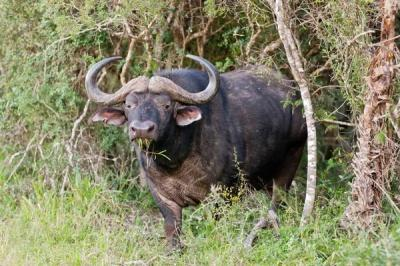buffalo: (87, 58, 306, 248)
